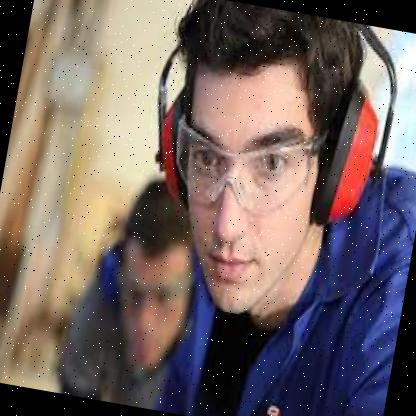oculos: (165, 115, 325, 223)
